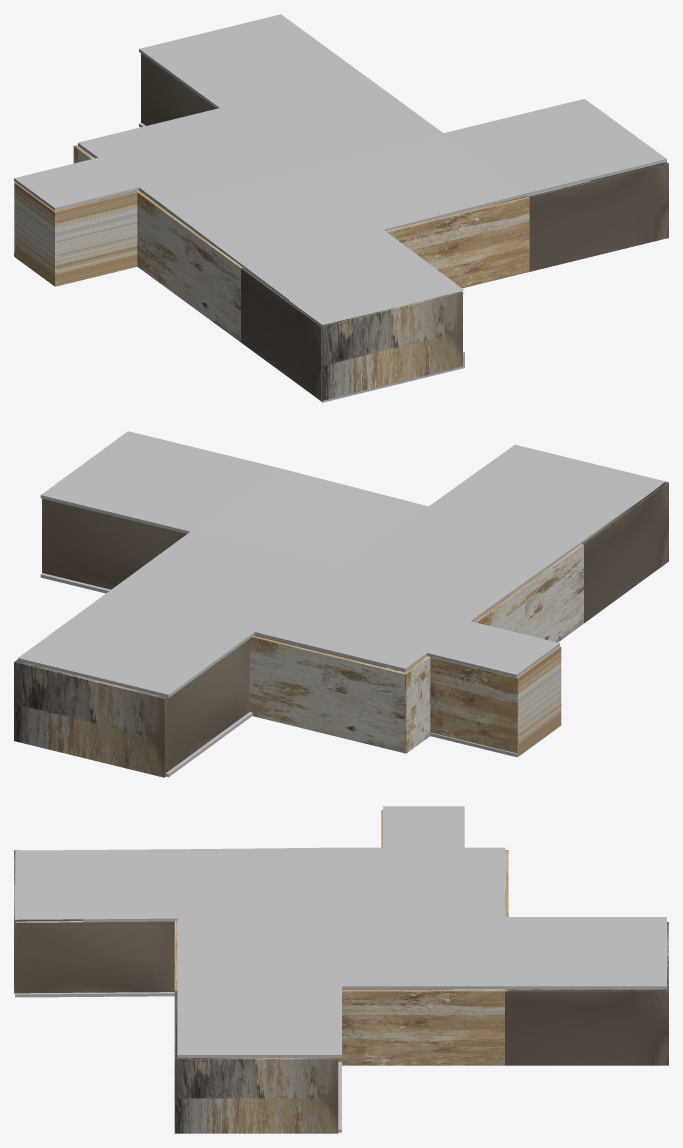
Rendered from TexturedMap.fbx.
3 renders of one model, top to bottom at view 1: azimuth 30°, elevation 25°; view 2: azimuth 150°, elevation 25°; view 3: azimuth 270°, elevation 25°, orthographic. The views are drawn at different scales.
Parts seen in each view (by area): view 1: Roof, RoomWalls.001, RoomWalls.004, RoomWalls.003, OuterHallwayWall, OuterHallwayWall.003, RoomWalls.005; view 2: Roof, RoomWalls.005, OuterHallwayWall.002, RoomWalls.003, RoomWalls.004, RoomWalls.001, OuterHallwayWall.003, OuterHallwayWall.004, Floor; view 3: Roof, RoomWalls.004, RoomWalls.005, OuterHallwayWall.001, RoomWalls.001, Floor.
Boxes of the visible parts, x1,y1,x2,y2 form: Roof: (14, 14, 666, 324); RoomWalls.001: (241, 268, 462, 400); RoomWalls.004: (485, 162, 668, 271); RoomWalls.003: (14, 182, 137, 286); OuterHallwayWall: (386, 196, 529, 288); OuterHallwayWall.003: (135, 190, 243, 342); RoomWalls.005: (141, 53, 216, 125); Roof: (18, 431, 665, 697); RoomWalls.005: (14, 639, 249, 777); OuterHallwayWall.002: (249, 636, 405, 753); RoomWalls.003: (430, 646, 561, 757); RoomWalls.004: (42, 498, 186, 589); RoomWalls.001: (500, 481, 668, 623); OuterHallwayWall.003: (474, 544, 583, 642); OuterHallwayWall.004: (404, 656, 430, 753); Floor: (40, 564, 664, 777); Roof: (15, 806, 666, 1057); RoomWalls.004: (174, 991, 338, 1133); RoomWalls.005: (505, 922, 668, 1065); OuterHallwayWall.001: (338, 990, 508, 1065); RoomWalls.001: (14, 850, 174, 993); Floor: (15, 989, 504, 1132).
Bounding box in the file's own units: 3594 × 542 × 3993.
